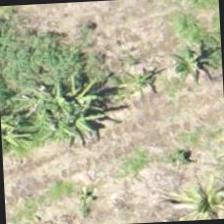Kelapa_Sawit: (150, 162, 223, 222)
